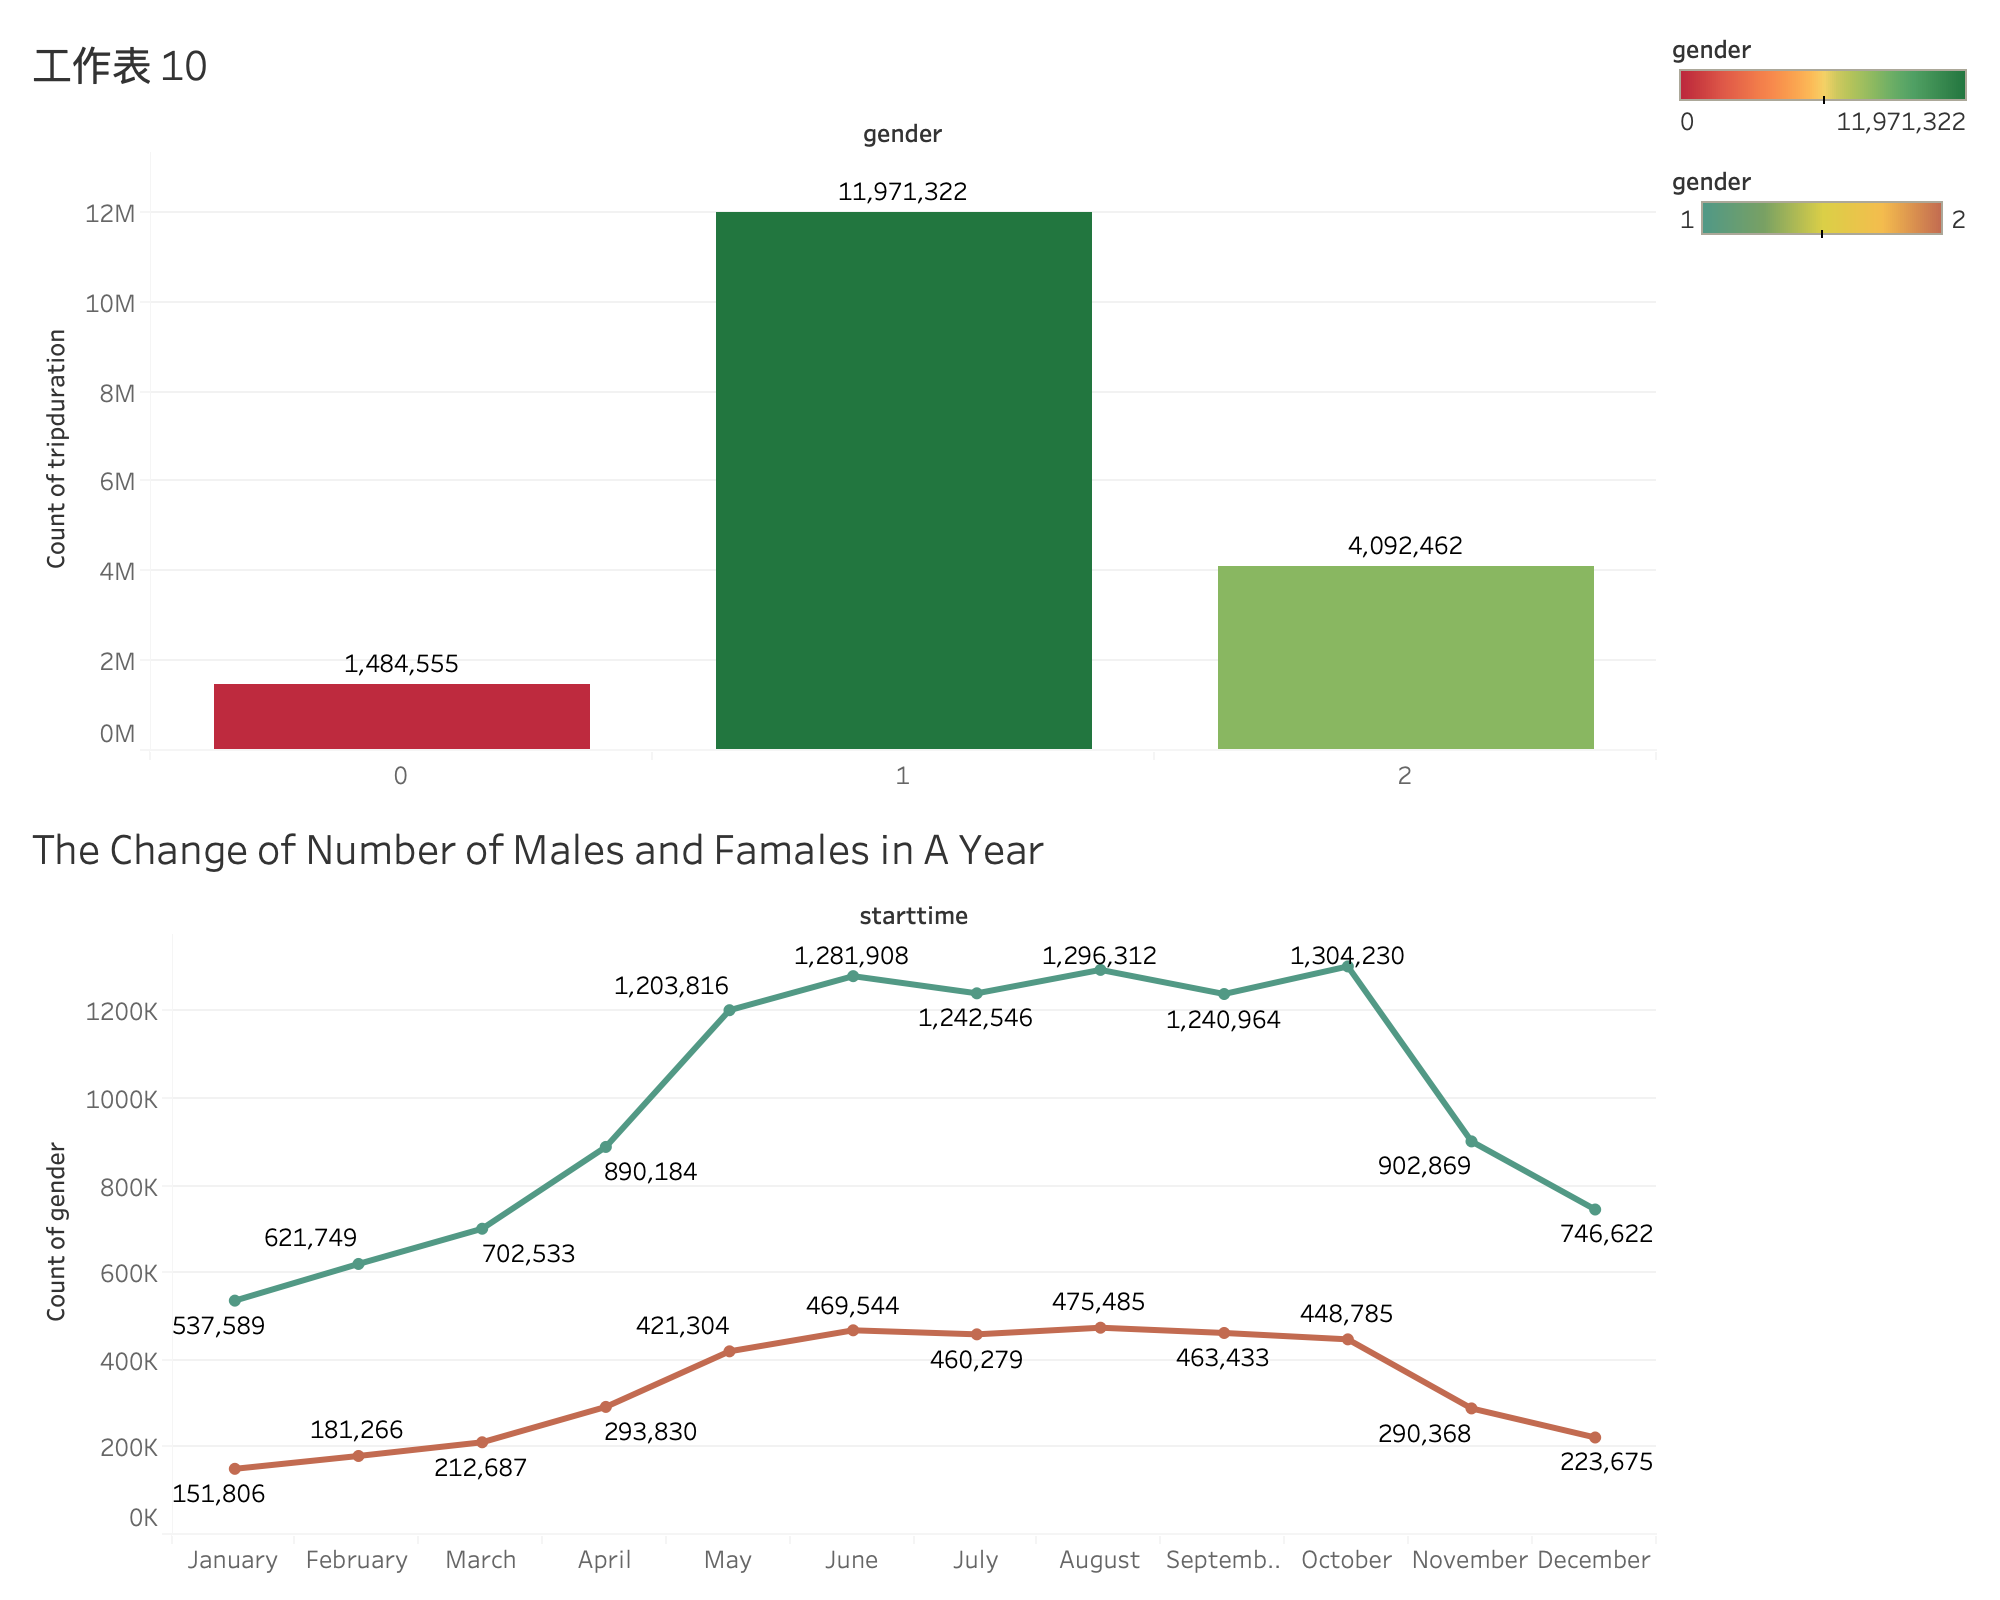

This screenshot's page, from the dashboard's own definition file:
{"tool":"tableau","page":{"name":"仪表板 5","canvas":[1000,800],"ordinal":4},"visuals":[{"type":"worksheet","title":"工作表 10","mark":"Bar","rows":["tripduration"],"cols":["gender"],"box":[8,8,824,392]},{"type":"legend","title":"工作表 10","param":"[federated.02kz2ur0veorju1ejoxha19djnvy].[sum:gender:qk]","box":[832,8,160,65]},{"type":"legend","title":"工作表 11","param":"[federated.02kz2ur0veorju1ejoxha19djnvy].[none:gender:qk]","box":[832,73,160,65]},{"type":"worksheet","title":"工作表 11","mark":"Line","rows":["gender"],"cols":["starttime"],"box":[8,400,824,392]}]}

Visuals, with their boxes in screenshot pixels (x1, y1, x2, y2), scaled from the page's 1000x800 canvas onto the 2000x1600 screenshot:
"工作表 10" worksheet (Bar marks): <region>16, 16, 1664, 800</region>
"工作表 10" legend: <region>1664, 16, 1984, 146</region>
"工作表 11" legend: <region>1664, 146, 1984, 276</region>
"工作表 11" worksheet (Line marks): <region>16, 800, 1664, 1584</region>
